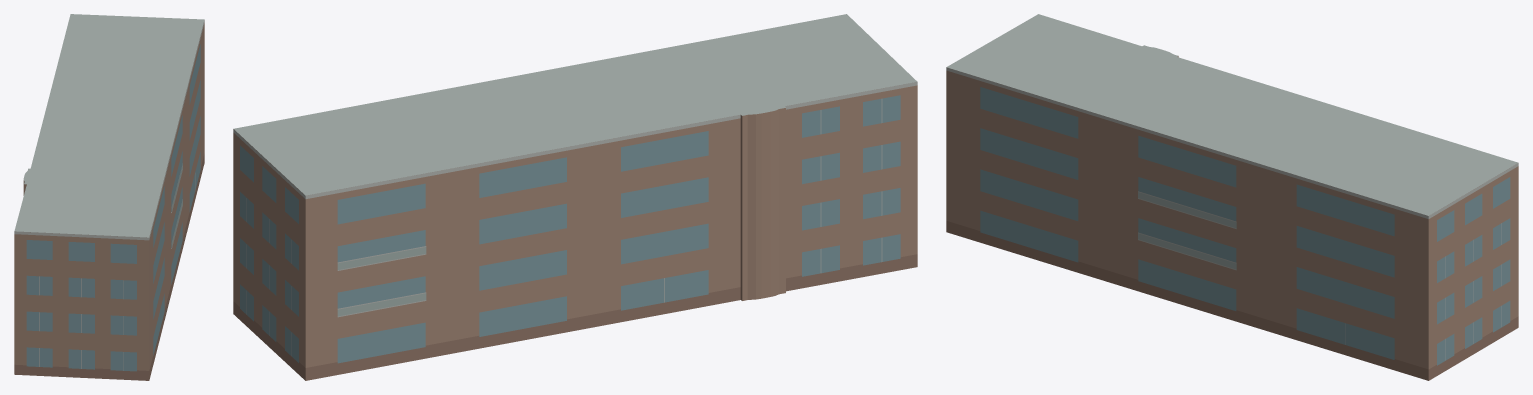
Rendered from survey-upis-32893694.glb.
3 renders of one model, left to right at view 1: azimuth 30°, elevation 25°; view 2: azimuth 150°, elevation 25°; view 3: azimuth 270°, elevation 25°, orthographic. The views are drawn at different scales.
Visible parts, largest first — view 1: survey-upis-32893694.tmp; view 2: survey-upis-32893694.tmp; view 3: survey-upis-32893694.tmp.
Boxes of the visible parts, x1=… form: survey-upis-32893694.tmp: x1=14, y1=14, x2=204, y2=380; survey-upis-32893694.tmp: x1=233, y1=14, x2=917, y2=380; survey-upis-32893694.tmp: x1=946, y1=14, x2=1518, y2=380.
Size of the model in its own units: 32.84 by 12.5 by 39.32.
